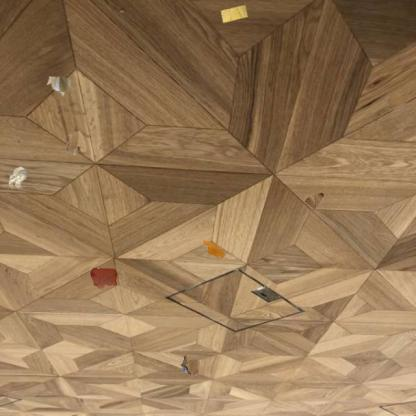dirty: (64, 129, 89, 157), (219, 3, 250, 25), (45, 74, 72, 98), (178, 352, 202, 379), (7, 165, 29, 191), (386, 92, 412, 112), (303, 190, 326, 212)
liquid: (89, 266, 119, 290), (202, 240, 226, 258)
